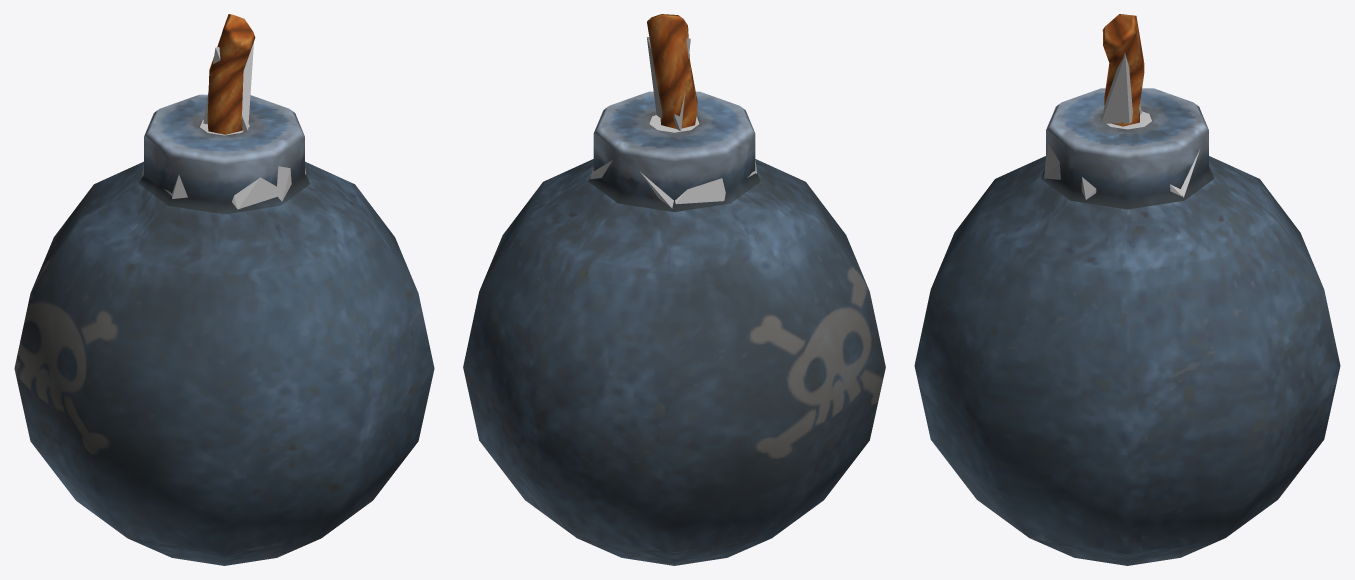
Rendered from SM_Bomb.fbx.
The picture shows the model from 3 angles, left to right: view 1: azimuth 30°, elevation 25°; view 2: azimuth 150°, elevation 25°; view 3: azimuth 270°, elevation 25°; orthographic projection.
Visible parts, largest first — view 1: SM_Bomb, SM_Bomb_ConvexHulls; view 2: SM_Bomb, SM_Bomb_ConvexHulls; view 3: SM_Bomb, SM_Bomb_ConvexHulls.
Boxes of the visible parts, x1,y1,x2,y2 form: SM_Bomb: (14,14,434,565); SM_Bomb_ConvexHulls: (141,42,305,209); SM_Bomb: (463,14,885,565); SM_Bomb_ConvexHulls: (590,37,756,208); SM_Bomb: (914,14,1340,565); SM_Bomb_ConvexHulls: (1044,52,1199,199).
Size of the model in its own units: 28.59 by 29.03 by 40.21.
2 materials, 1 textured.
